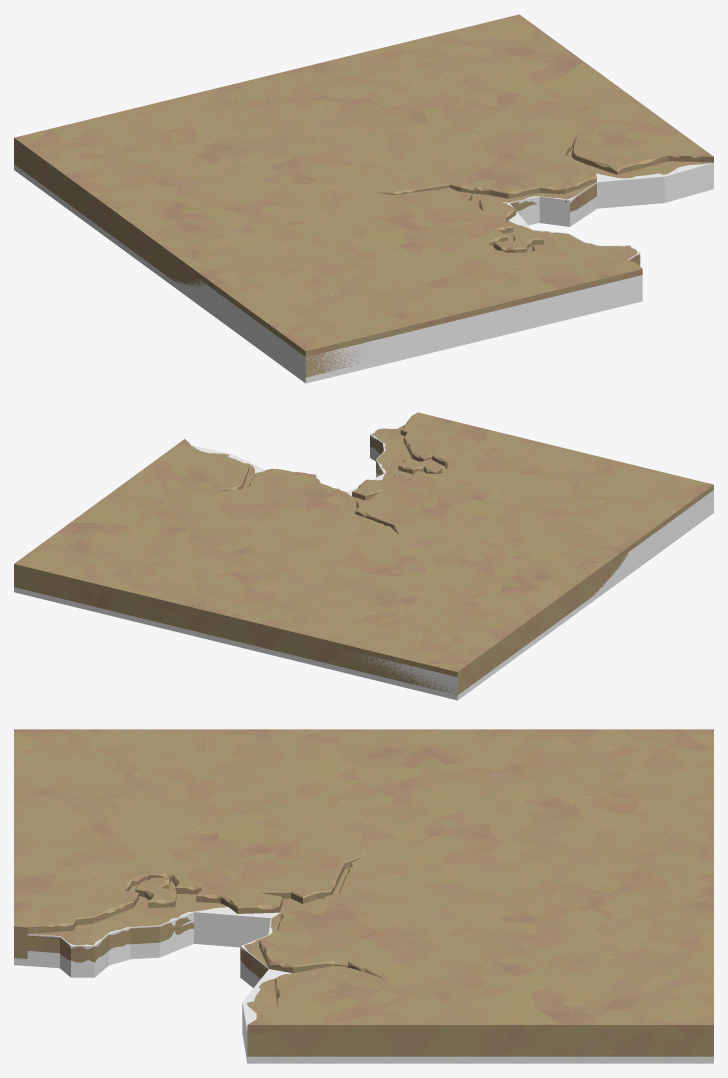
File: Structure_NOM_Floor_Broken_A.fbx
3 renders of one model, top to bottom at view 1: azimuth 30°, elevation 25°; view 2: azimuth 150°, elevation 25°; view 3: azimuth 270°, elevation 25°, orthographic. The views are drawn at different scales.
Parts seen in each view (by area): view 1: Floor_Broken_A, Floor_Broken_A_COL; view 2: Floor_Broken_A, Floor_Broken_A_COL; view 3: Floor_Broken_A, Floor_Broken_A_COL.
Part boxes in pixels (x1=…): Floor_Broken_A: x1=14, y1=14, x2=713, y2=377; Floor_Broken_A_COL: x1=14, y1=162, x2=713, y2=383; Floor_Broken_A: x1=14, y1=412, x2=713, y2=694; Floor_Broken_A_COL: x1=14, y1=424, x2=713, y2=700; Floor_Broken_A: x1=14, y1=729, x2=713, y2=1056; Floor_Broken_A_COL: x1=14, y1=907, x2=713, y2=1063.
Bounding box in the file's own units: 400 × 24.43 × 400.
